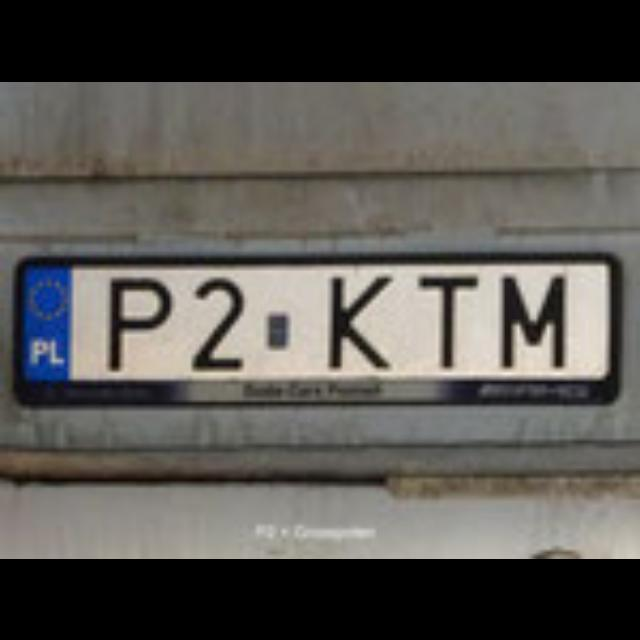pl_license_plate: (17, 256, 605, 376)
